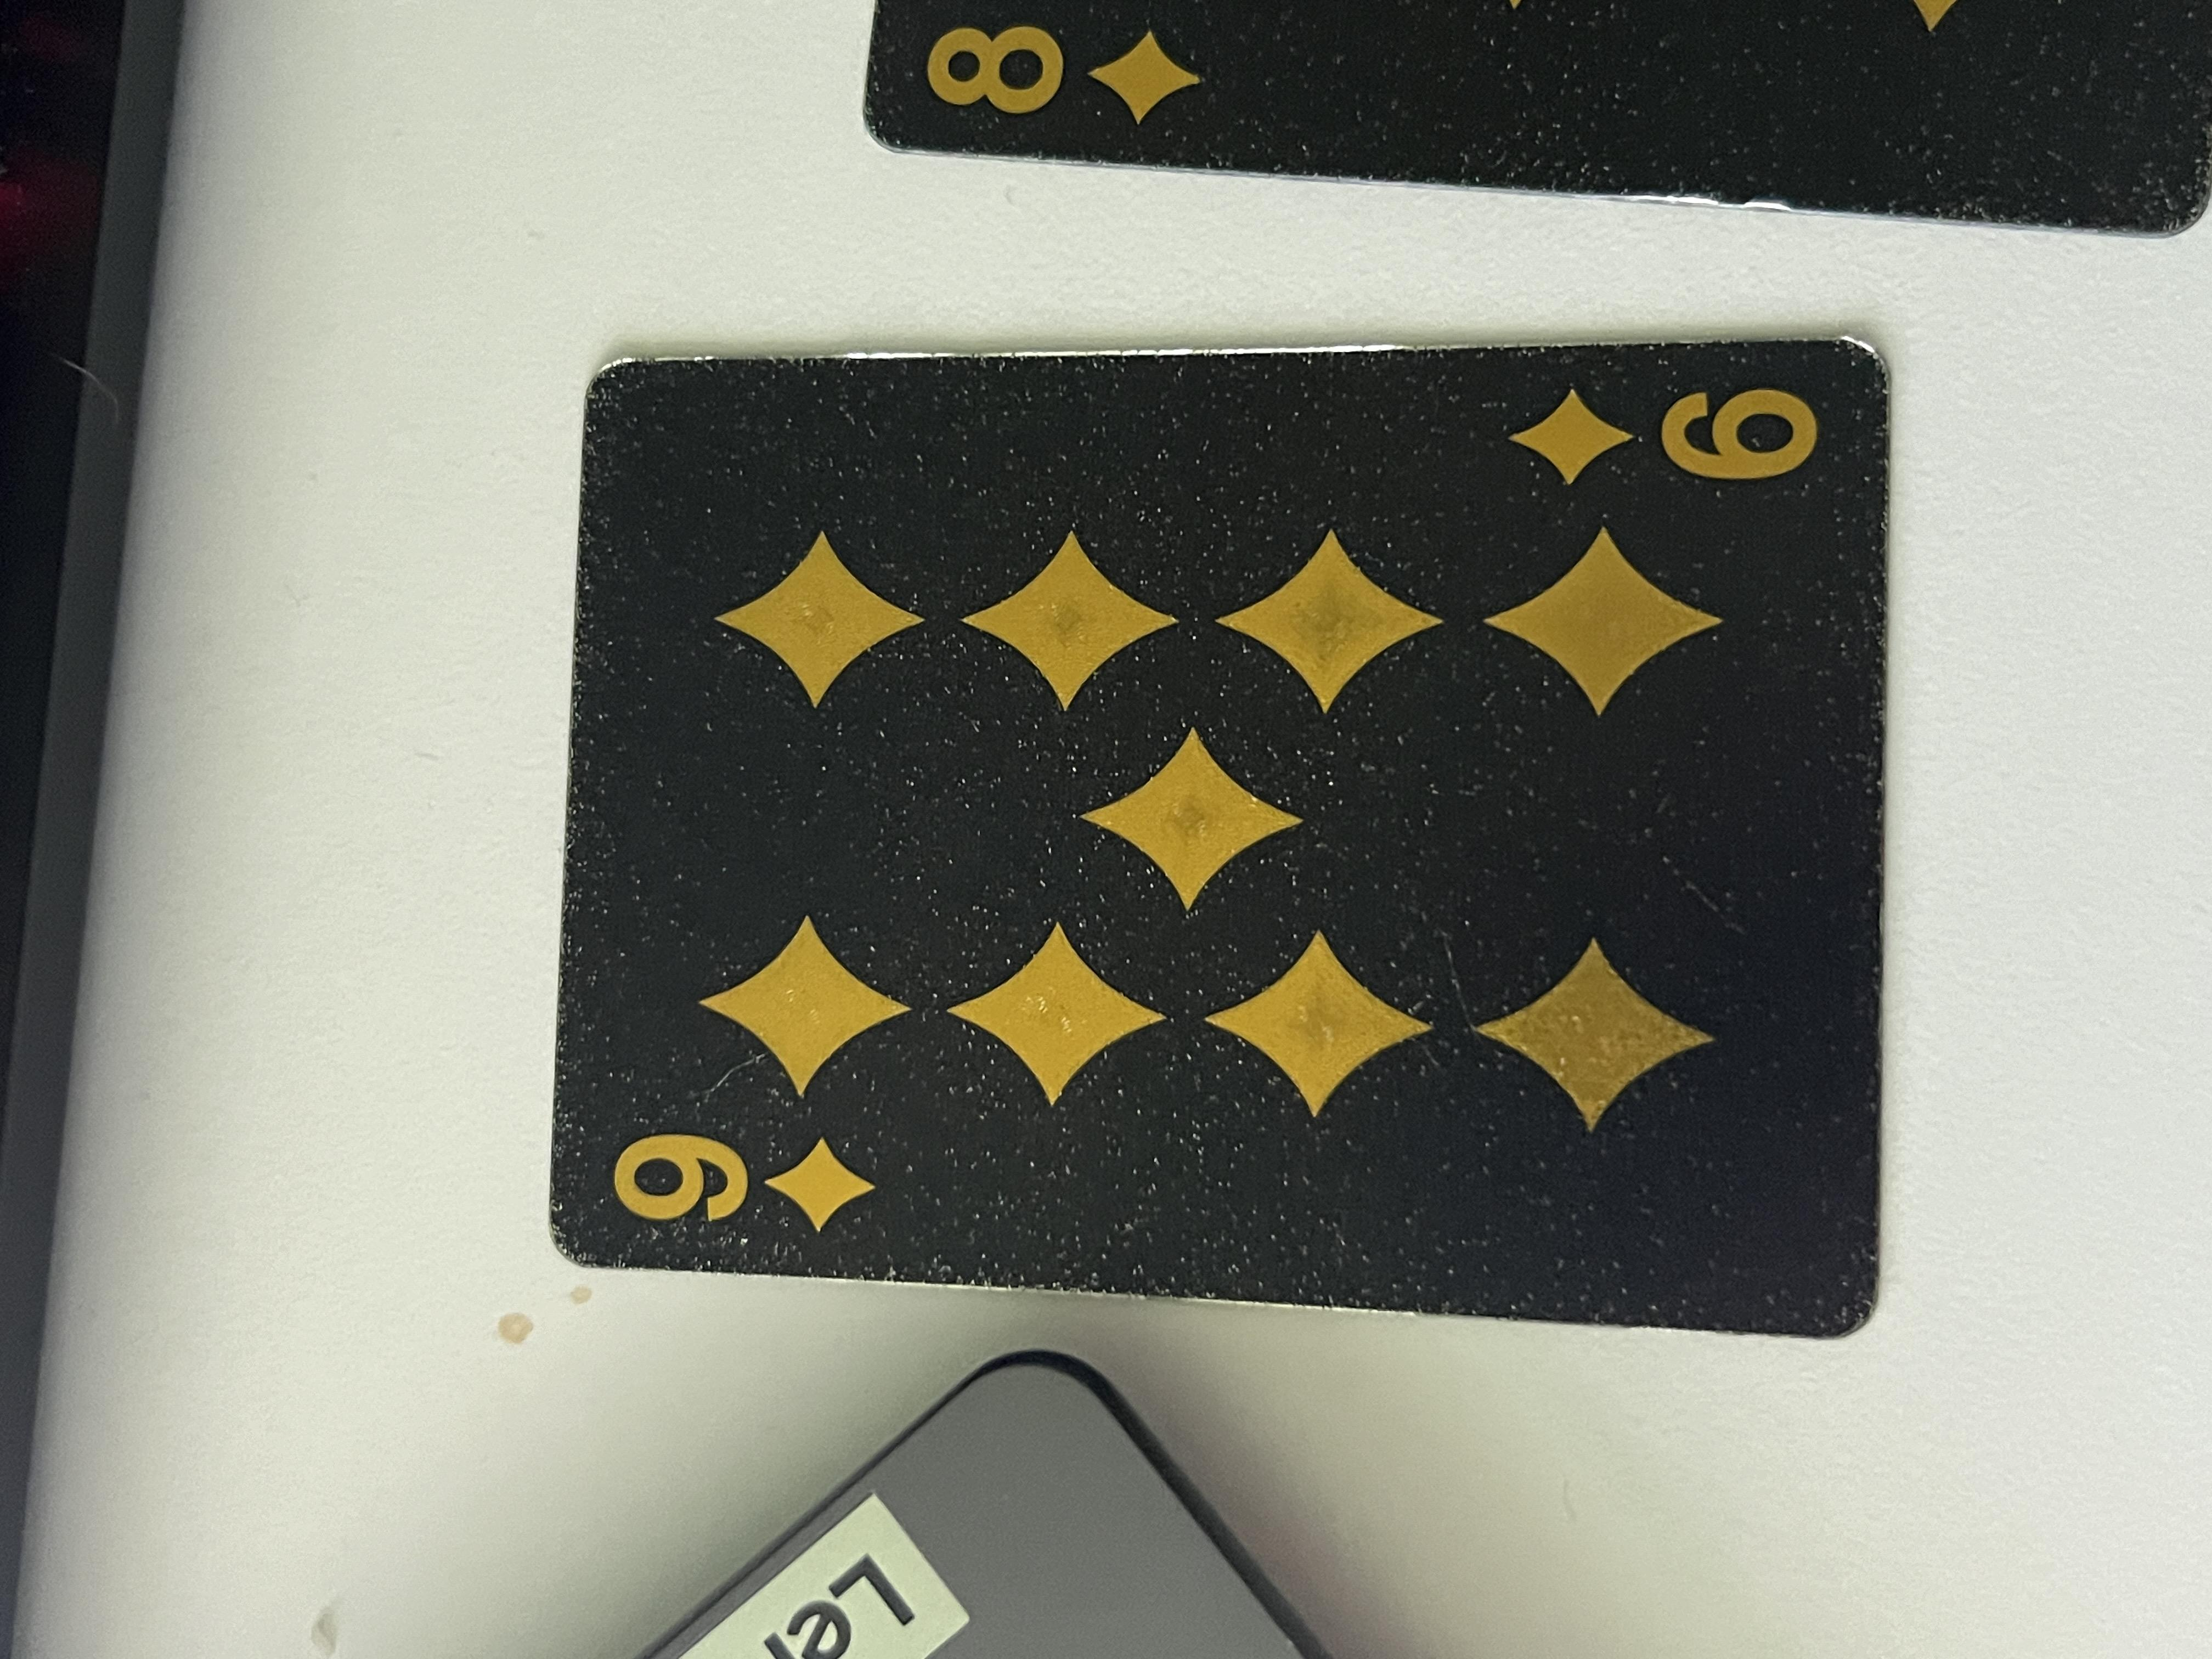8D: (2034, 673, 2195, 915)
9D: (1536, 1119, 1730, 1380), (536, 429, 726, 669)
